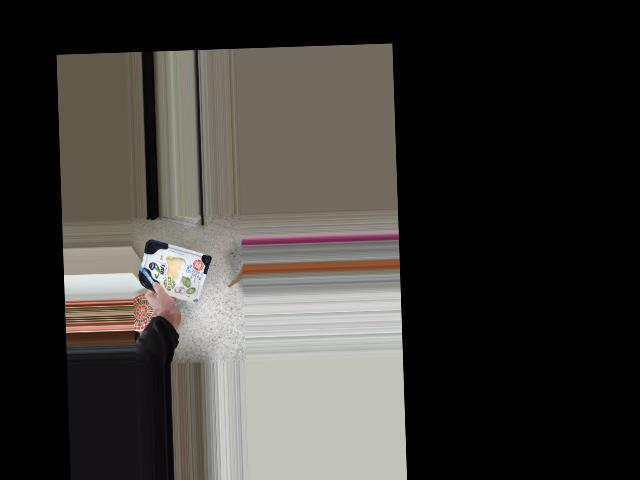cheese: (136, 236, 213, 303)
